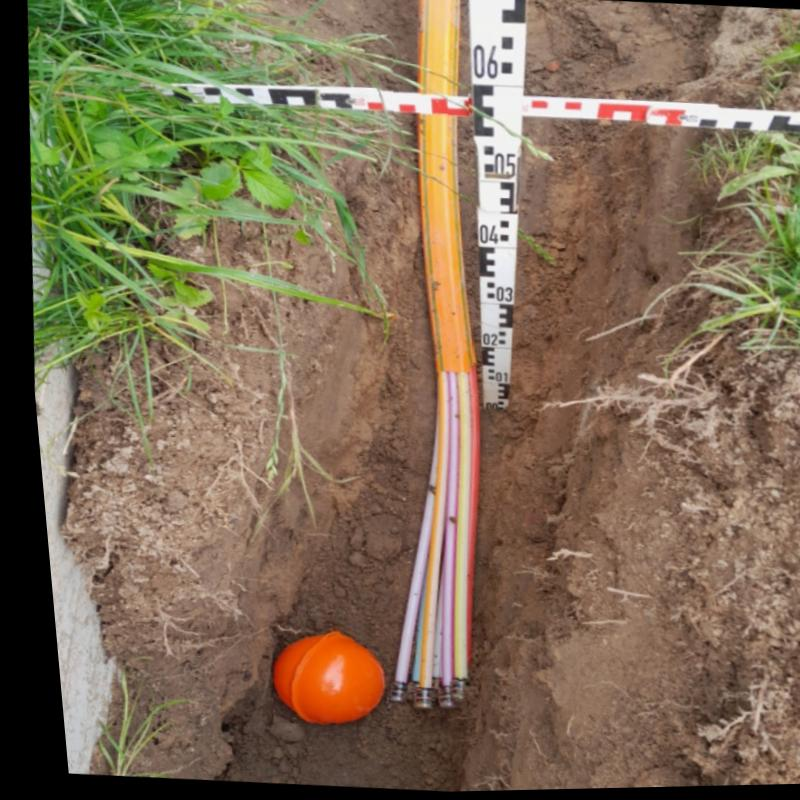Kugelmarker: (260, 627, 380, 728)
Orang-Speednetrohrchen: (377, 0, 466, 716)
